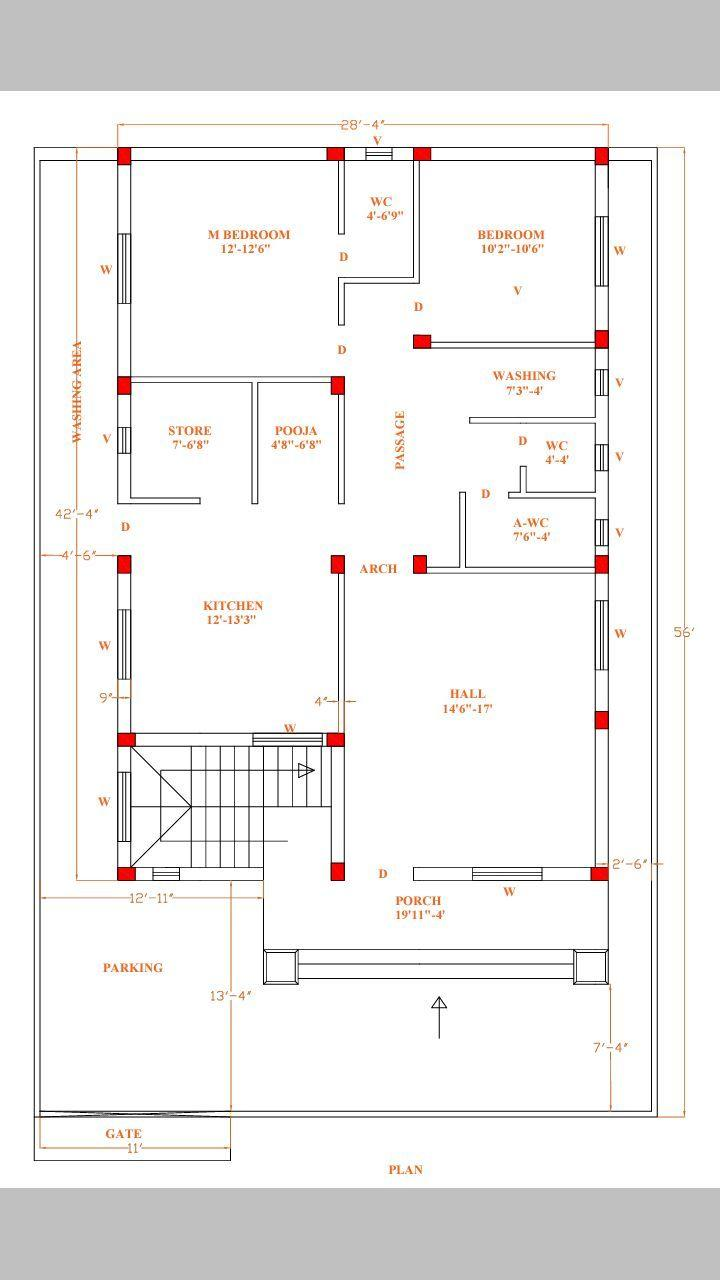Blueprint: (87, 128, 629, 904)
wall: (129, 145, 330, 162), (429, 146, 598, 162), (593, 727, 610, 869), (134, 732, 256, 748), (424, 564, 598, 575), (330, 746, 346, 864), (129, 375, 332, 384), (336, 572, 347, 734), (178, 866, 266, 882), (250, 380, 261, 506), (410, 160, 421, 285), (430, 341, 596, 349), (115, 162, 133, 235), (336, 393, 347, 505), (116, 301, 132, 378), (468, 416, 598, 425), (411, 866, 474, 883), (114, 677, 132, 735), (115, 451, 133, 505), (593, 468, 611, 521), (593, 163, 610, 219), (507, 490, 598, 500), (593, 284, 611, 334), (593, 394, 610, 446), (336, 159, 347, 237), (336, 275, 421, 285), (540, 866, 593, 882), (593, 668, 611, 714), (128, 495, 202, 506), (457, 490, 467, 569), (116, 572, 133, 612), (115, 394, 132, 428), (593, 573, 611, 602), (116, 745, 133, 774), (115, 840, 132, 869), (337, 275, 346, 328), (593, 347, 611, 372), (389, 146, 415, 163), (343, 145, 368, 162), (135, 866, 155, 882), (519, 465, 528, 494), (594, 545, 609, 557)
